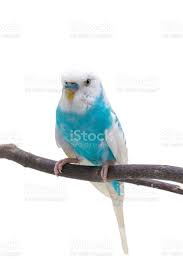budgie: (53, 69, 131, 251)
